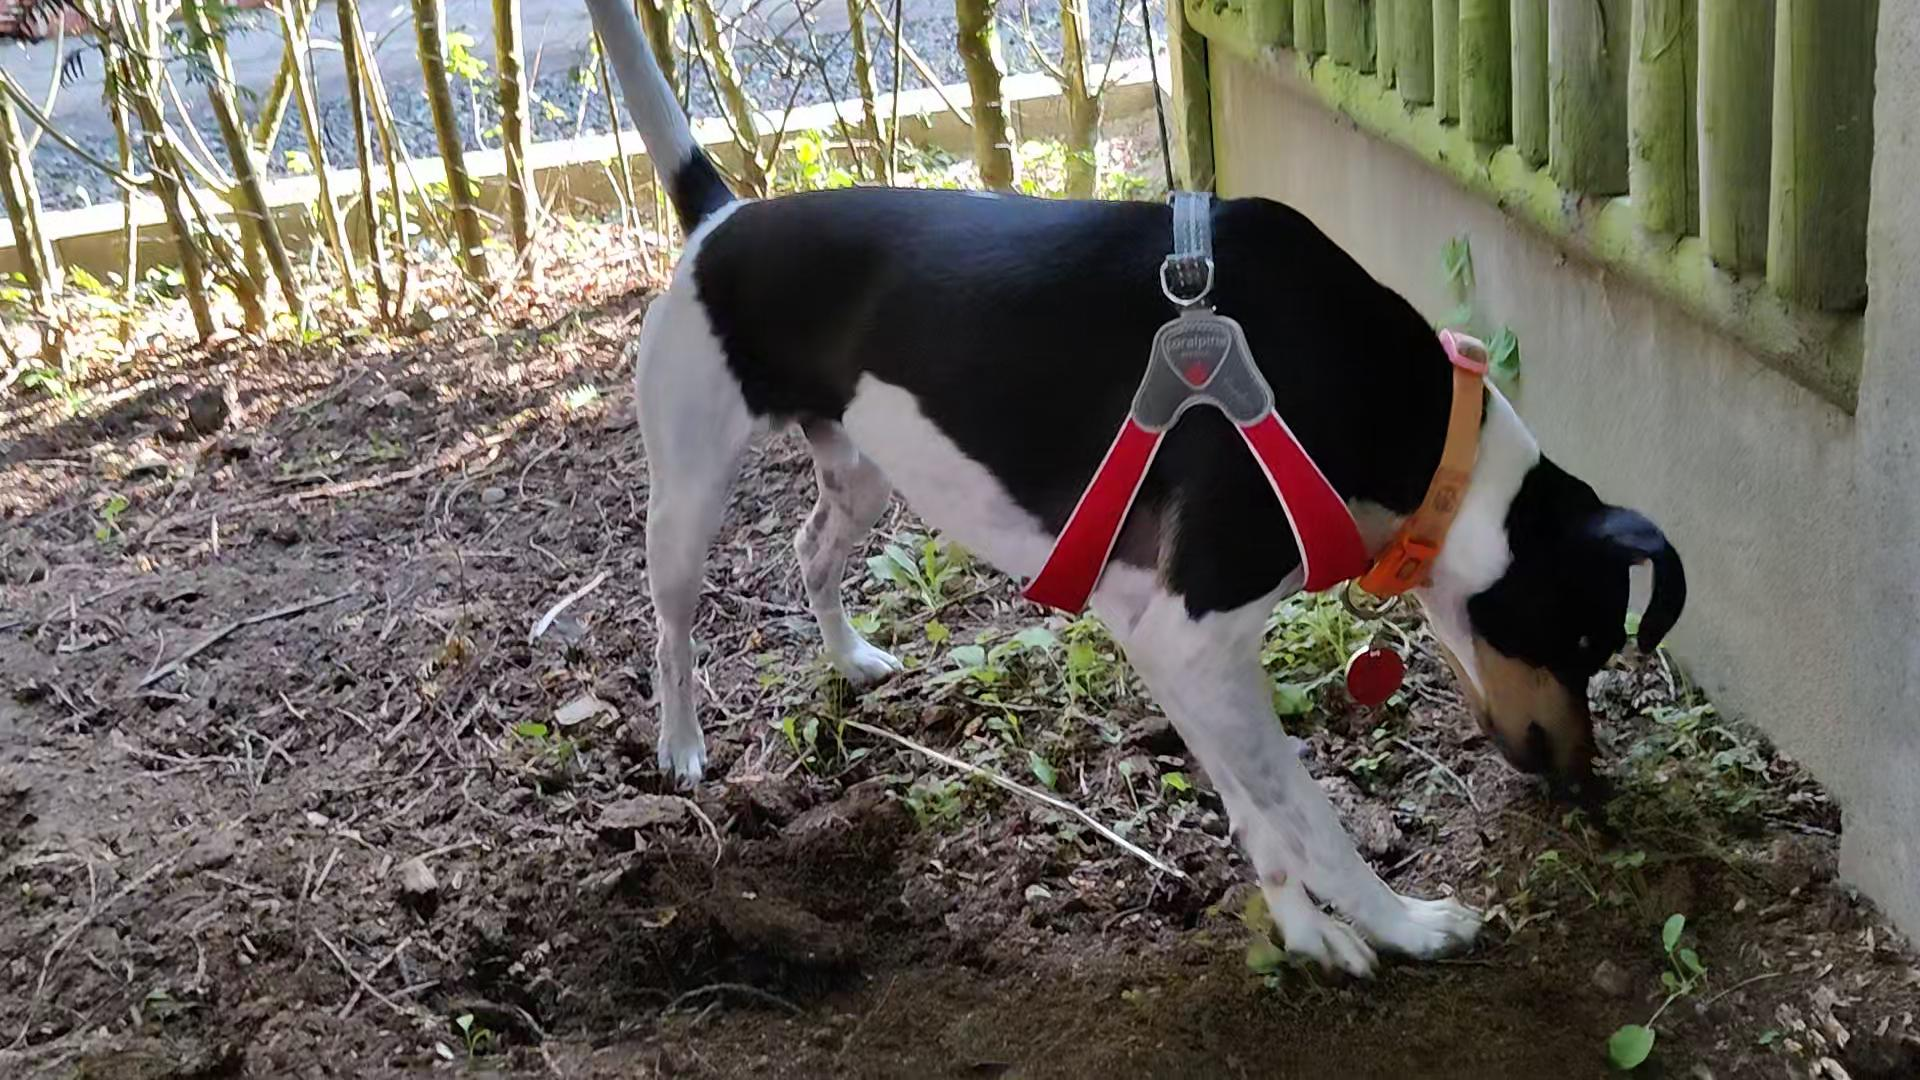Dog: (575, 0, 1704, 997)
